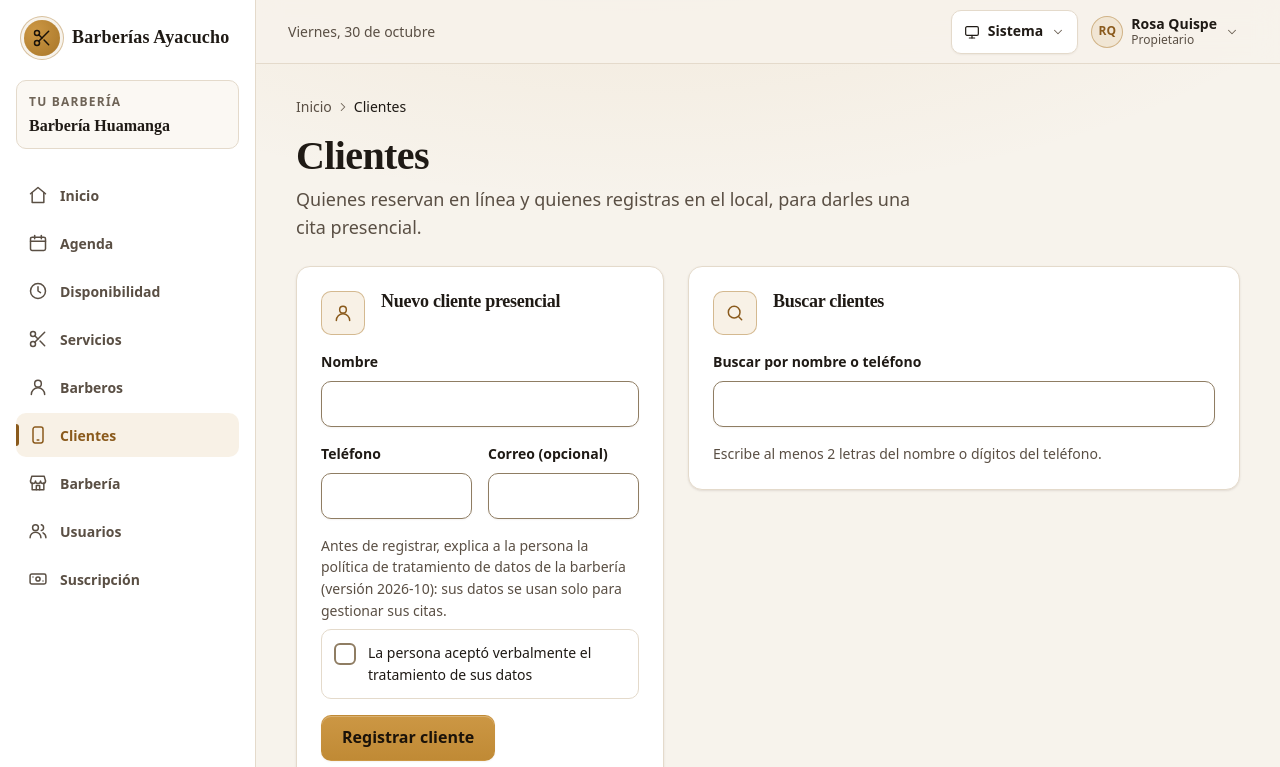
Test: Clientes (/app/clientes) › el alta presencial exige la casilla de consentimiento verbal y muestra la política
Type "Julia Ccorahua" into the field labelled "Nombre" at (480, 404), box x1=321 y1=381 x2=639 y2=427
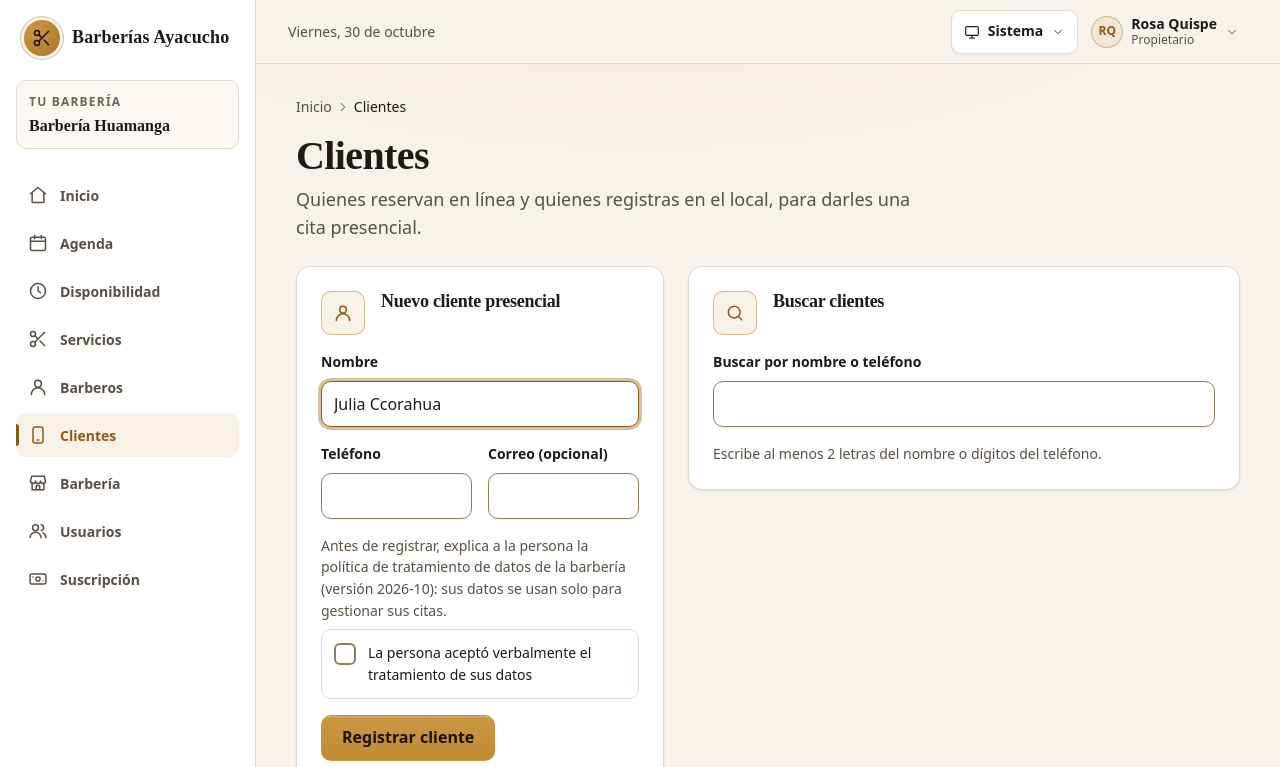
Type "966555444" into the field labelled "Teléfono" at (396, 496), box x1=321 y1=473 x2=472 y2=519
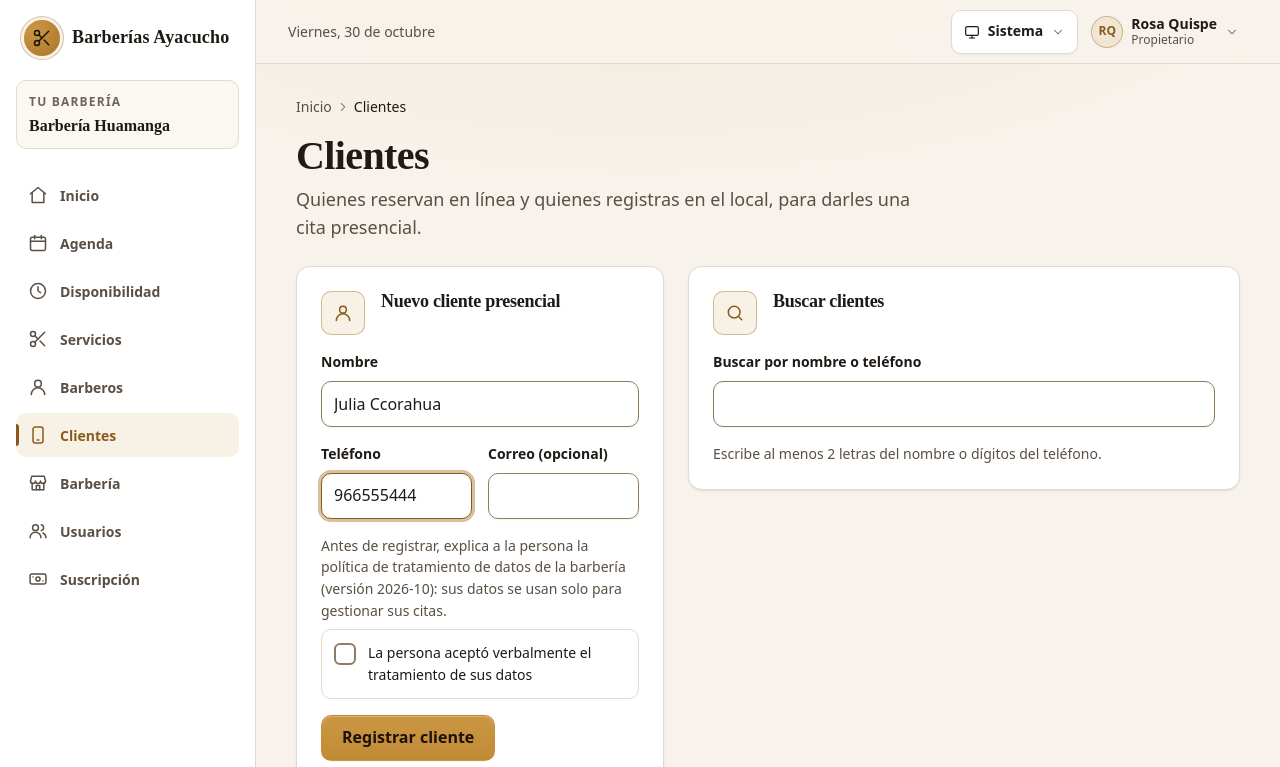
Click the button "Registrar cliente" at (408, 738), box x1=321 y1=715 x2=495 y2=761
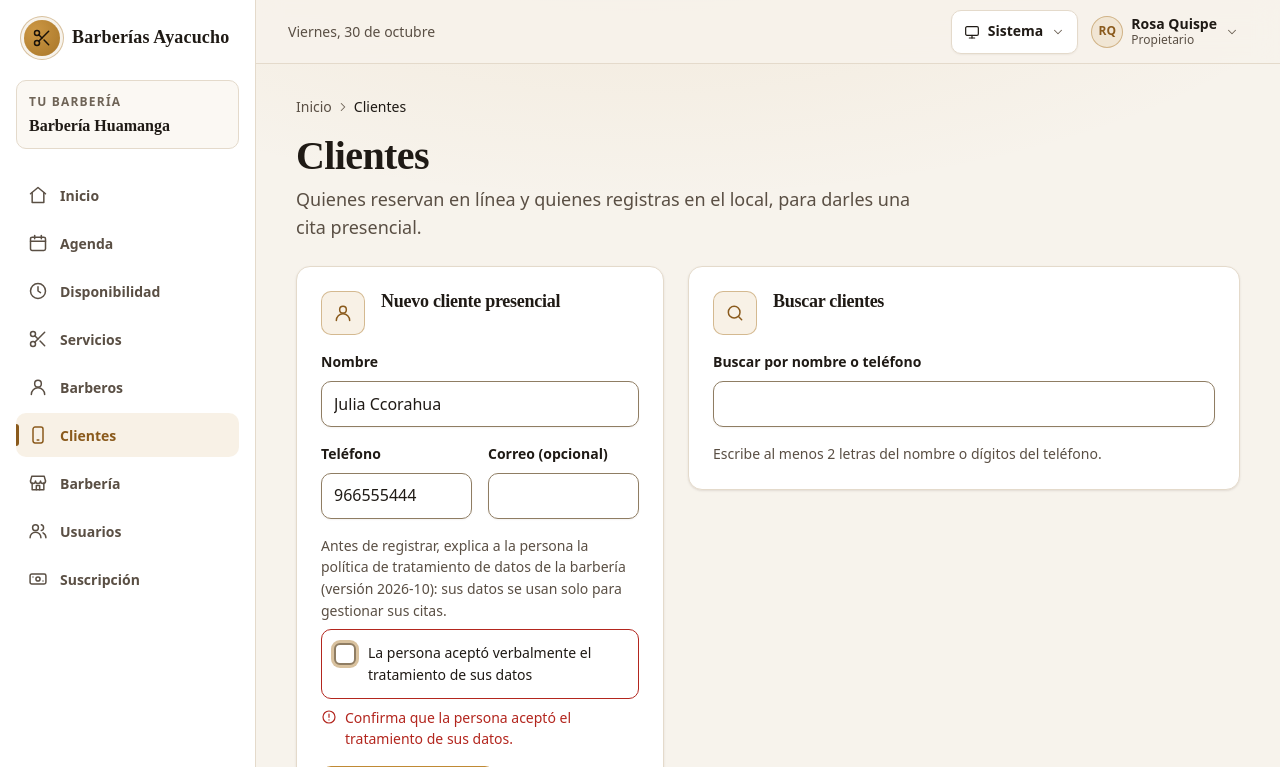
Now the text "Confirma que la persona aceptó el tratamiento de sus datos." is shown, box x1=321 y1=708 x2=571 y2=748
Click the checkbox labelled "La persona aceptó verbalmente el tratamiento de sus datos" at (345, 654), box x1=334 y1=643 x2=356 y2=665
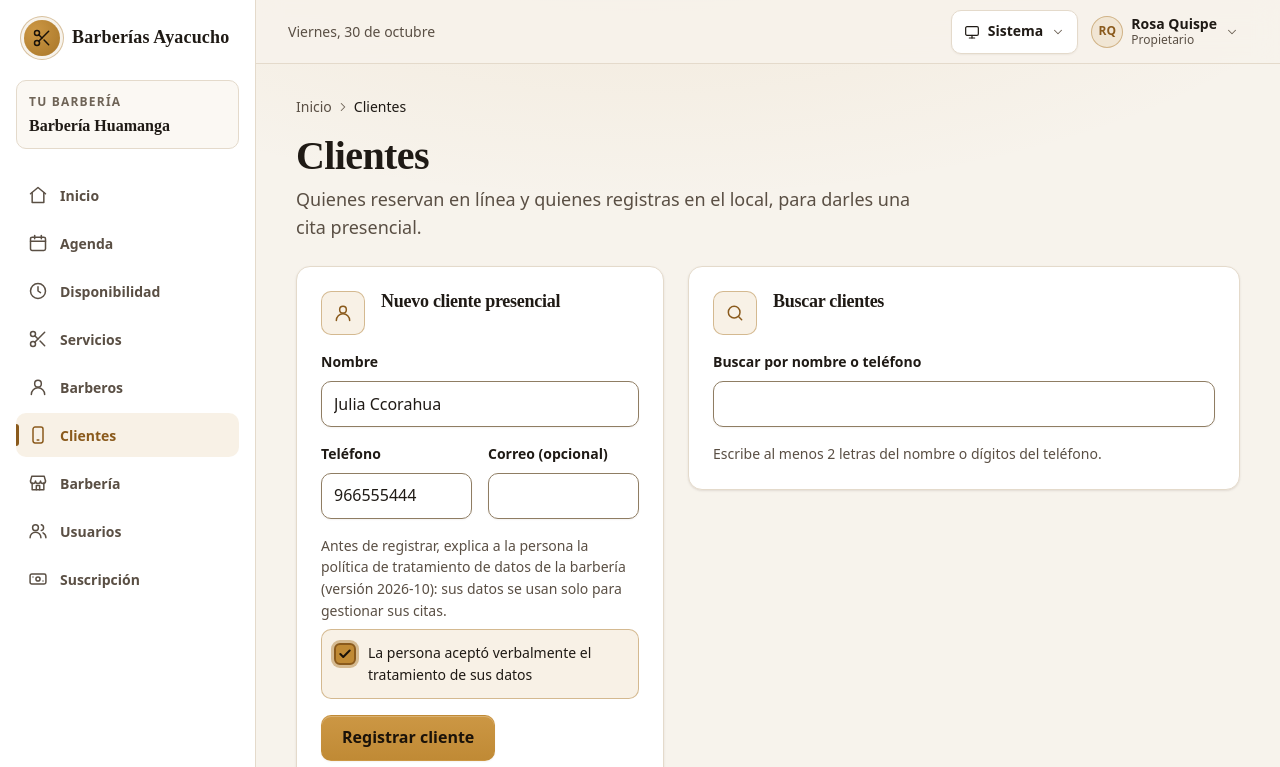
Click the button "Registrar cliente" at (408, 738), box x1=321 y1=715 x2=495 y2=761
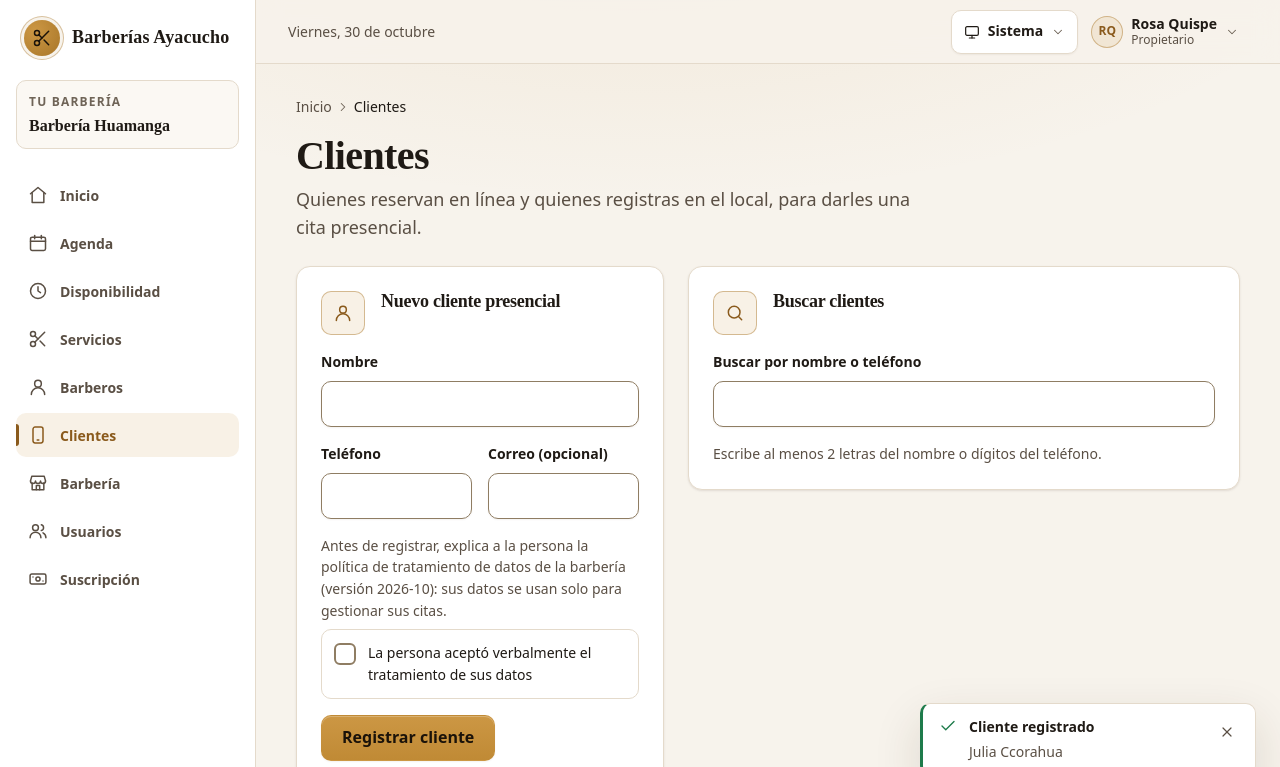
Now the text "Cliente registrado" is shown, box x1=969 y1=717 x2=1094 y2=736
